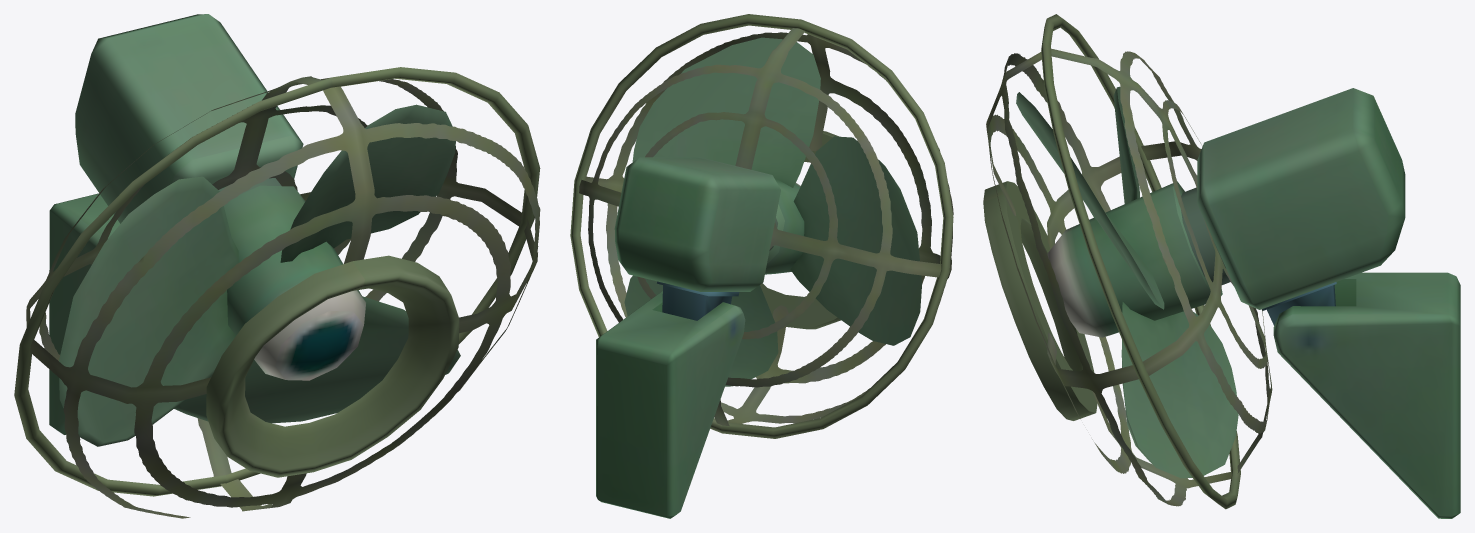
The picture shows the model from 3 angles, left to right: view 1: azimuth 30°, elevation 25°; view 2: azimuth 150°, elevation 25°; view 3: azimuth 270°, elevation 25°; orthographic projection. The views are drawn at different scales.
Bounding box in the file's own units: 7.67 × 7.22 × 6.85.
Materials: 1 (1 with a texture image).
